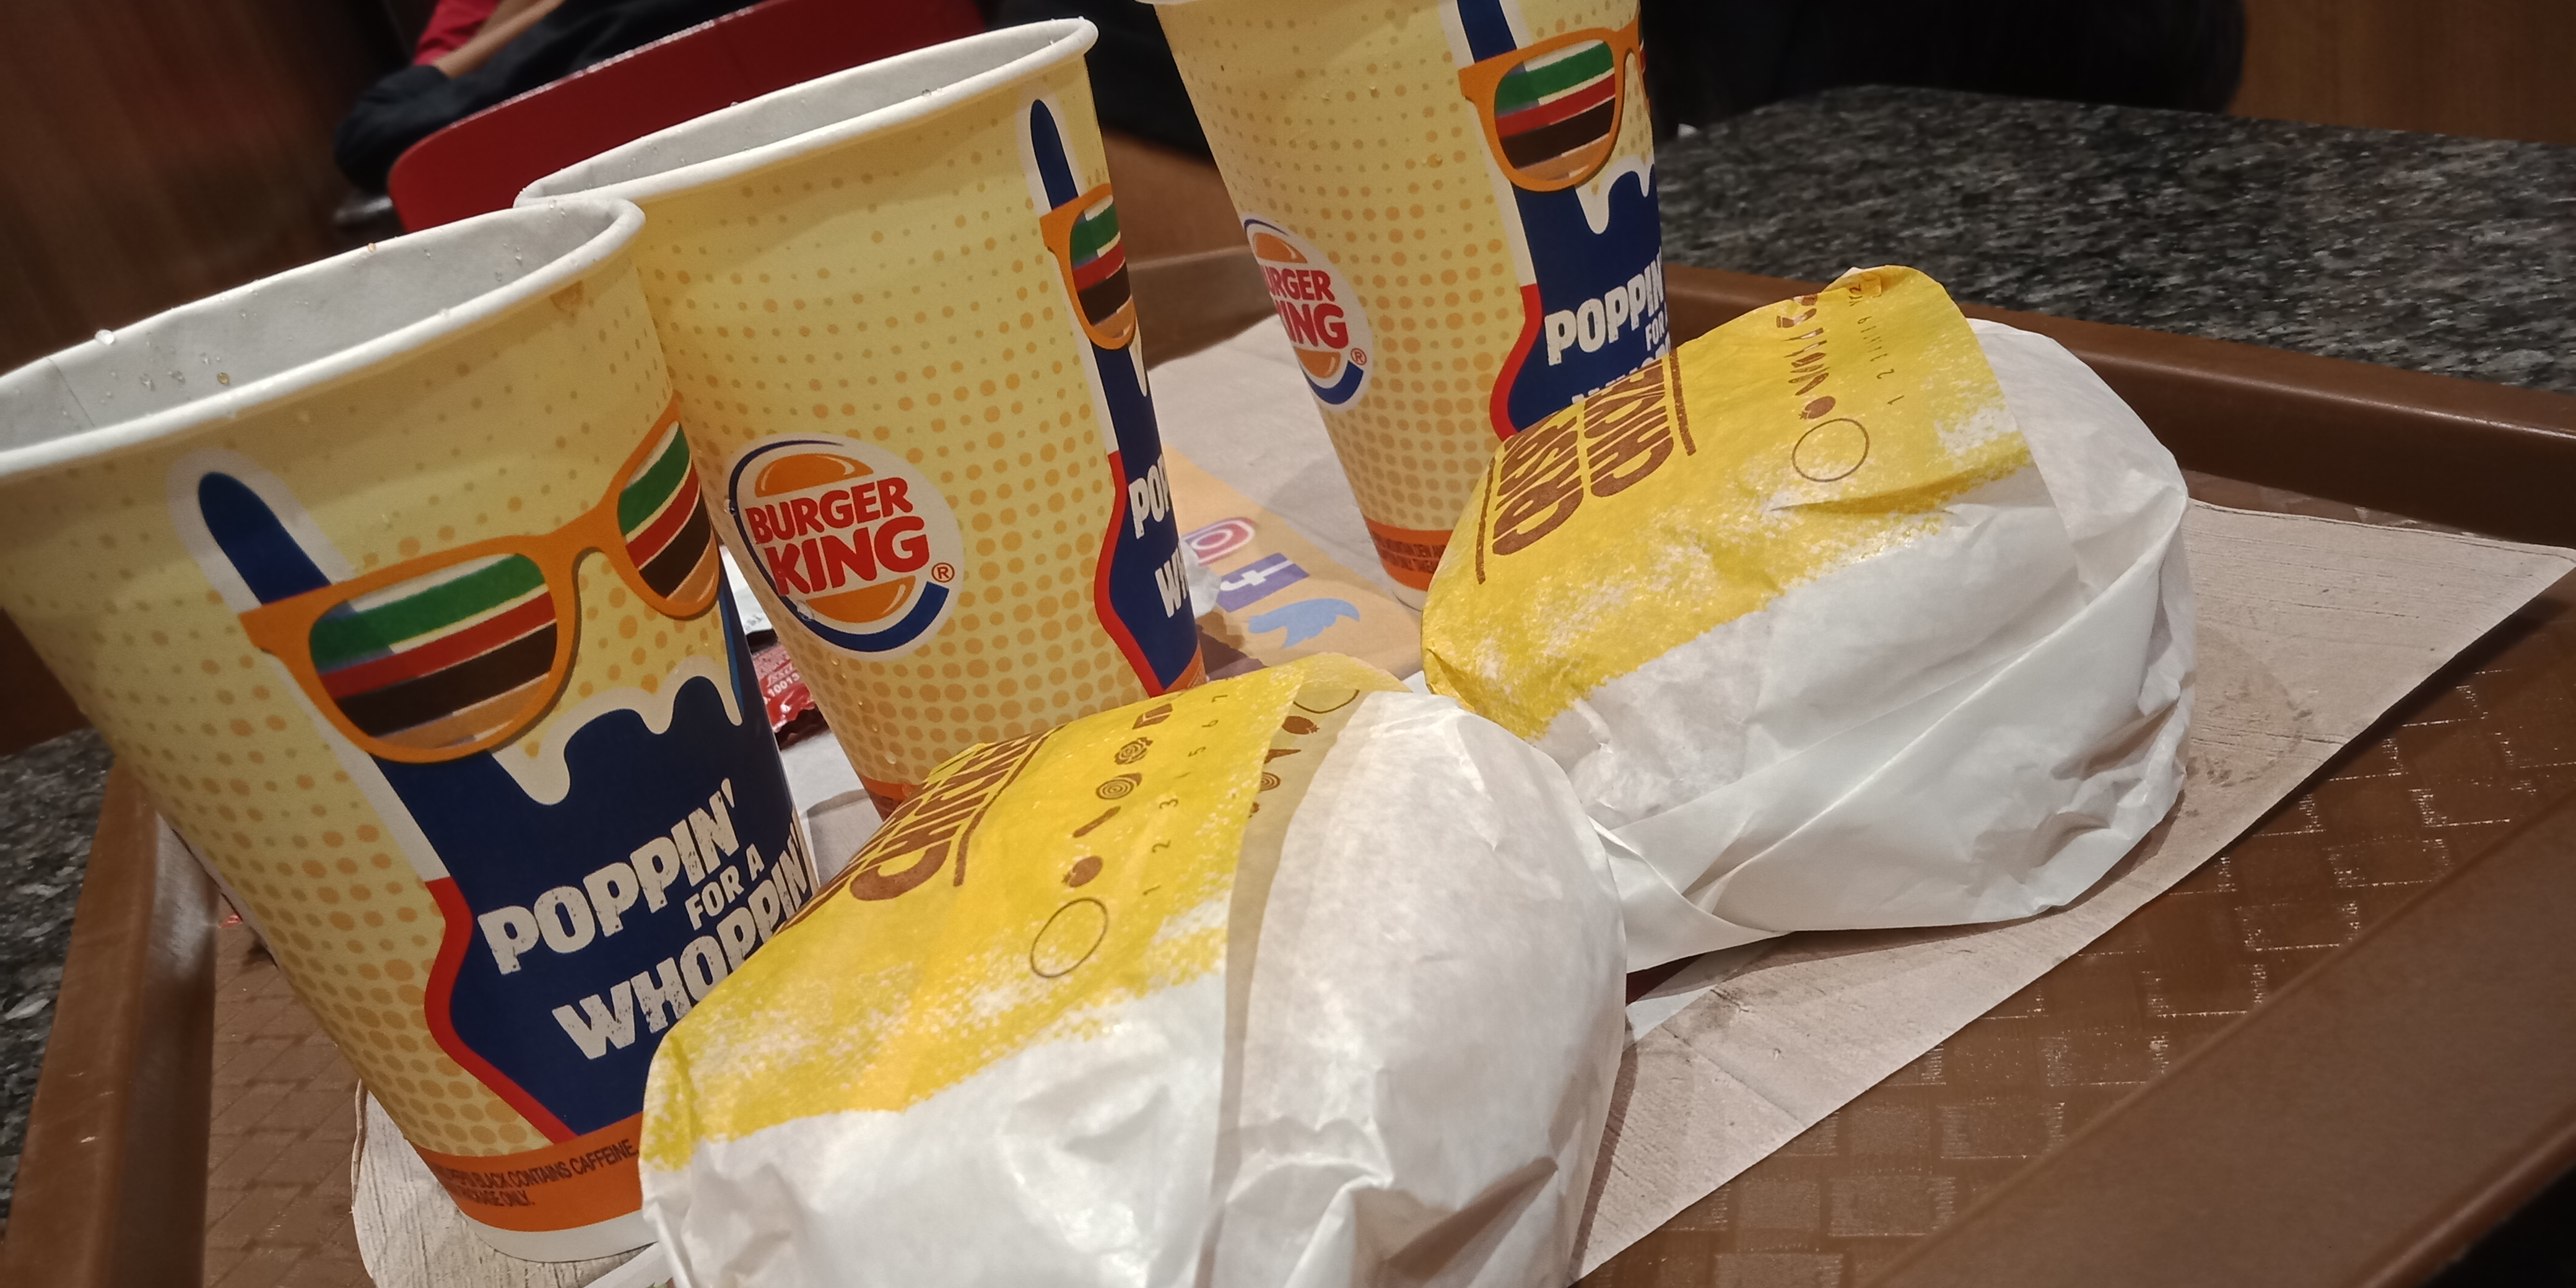food: (0, 187, 813, 1235), (628, 659, 1641, 1288), (506, 8, 1211, 823), (1148, 0, 1677, 595)
